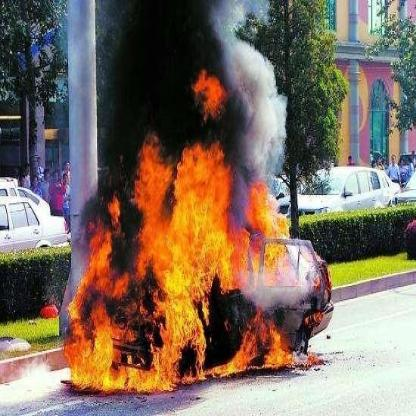fire: (56, 63, 320, 400)
smoke: (94, 3, 287, 210)
